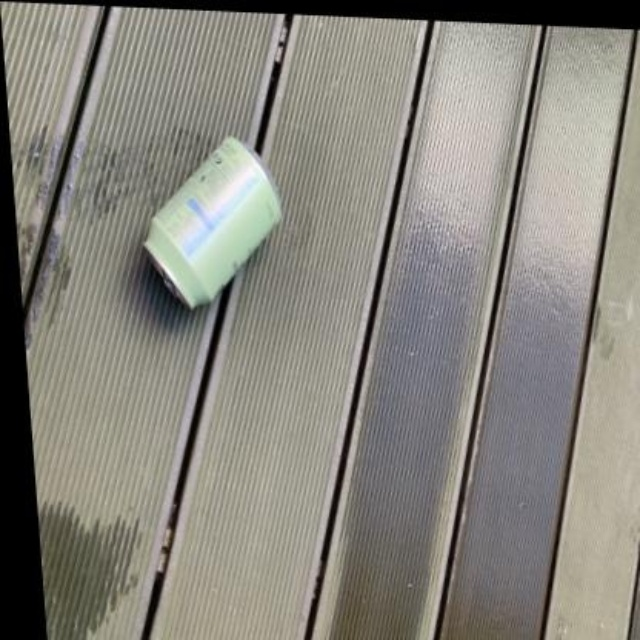trash: (145, 137, 280, 306)
